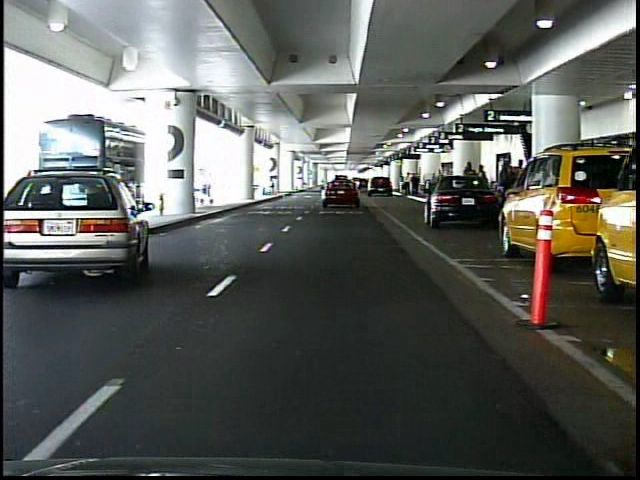person: (494, 159, 513, 212), (462, 160, 477, 207), (476, 163, 489, 207), (404, 171, 413, 197), (411, 173, 419, 197), (398, 175, 405, 191)
